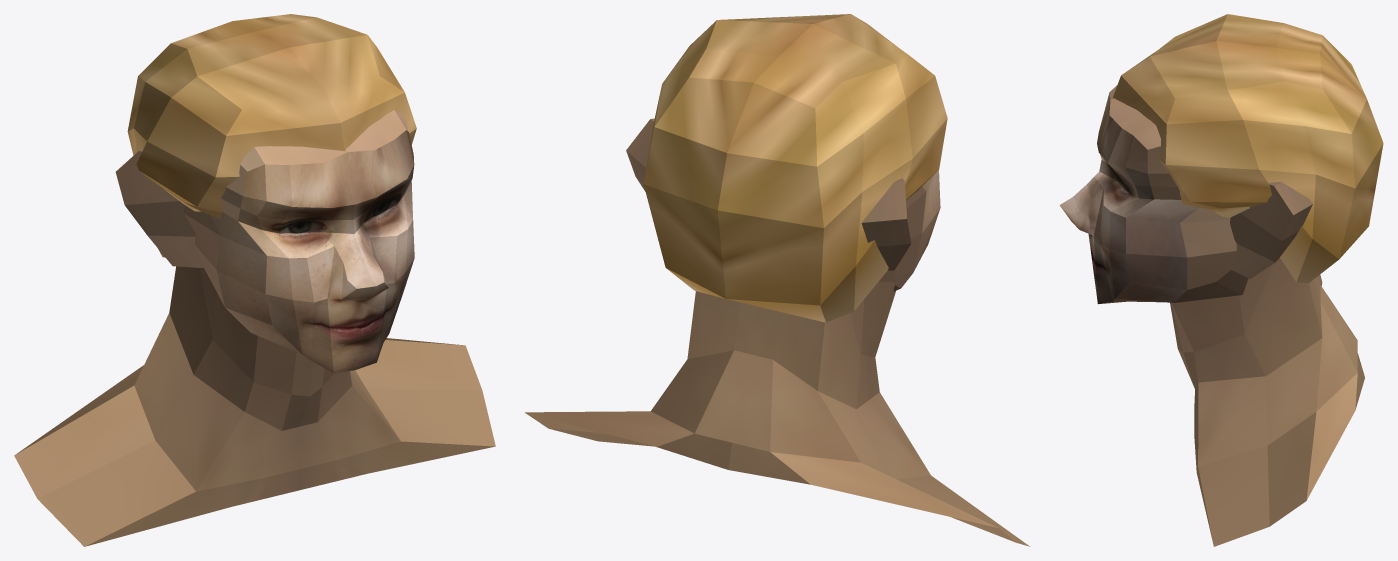
File: Teenager.fbx
3 views of the same model, side by side, from view 1: azimuth 30°, elevation 25°; view 2: azimuth 150°, elevation 25°; view 3: azimuth 270°, elevation 25° (orthographic). The views are drawn at different scales.
Parts seen in each view (by area): view 1: TngrFace.001; view 2: TngrFace.001; view 3: TngrFace.001.
Boxes of the visible parts, <box> form: TngrFace.001: <box>14,14,495,546</box>; TngrFace.001: <box>525,14,1029,546</box>; TngrFace.001: <box>1059,14,1383,546</box>.
Size of the model in its own units: 187 by 177 by 126.
